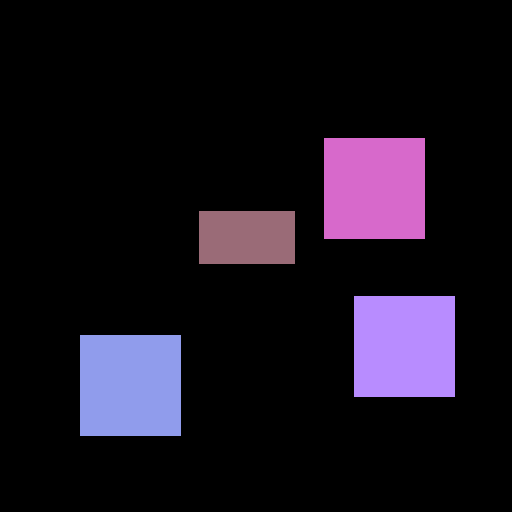rectangle: (199, 211, 294, 263)
square: (80, 335, 180, 435), (354, 296, 454, 396), (324, 138, 424, 238)
